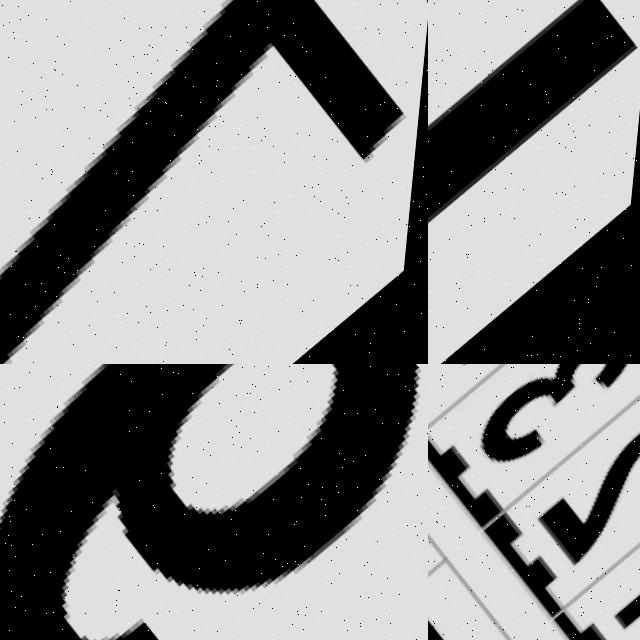2: (535, 403, 640, 573)
3: (461, 364, 640, 485)
4: (428, 364, 574, 395)
9: (0, 364, 428, 640)
T: (0, 0, 428, 364)
U: (428, 0, 640, 364)
